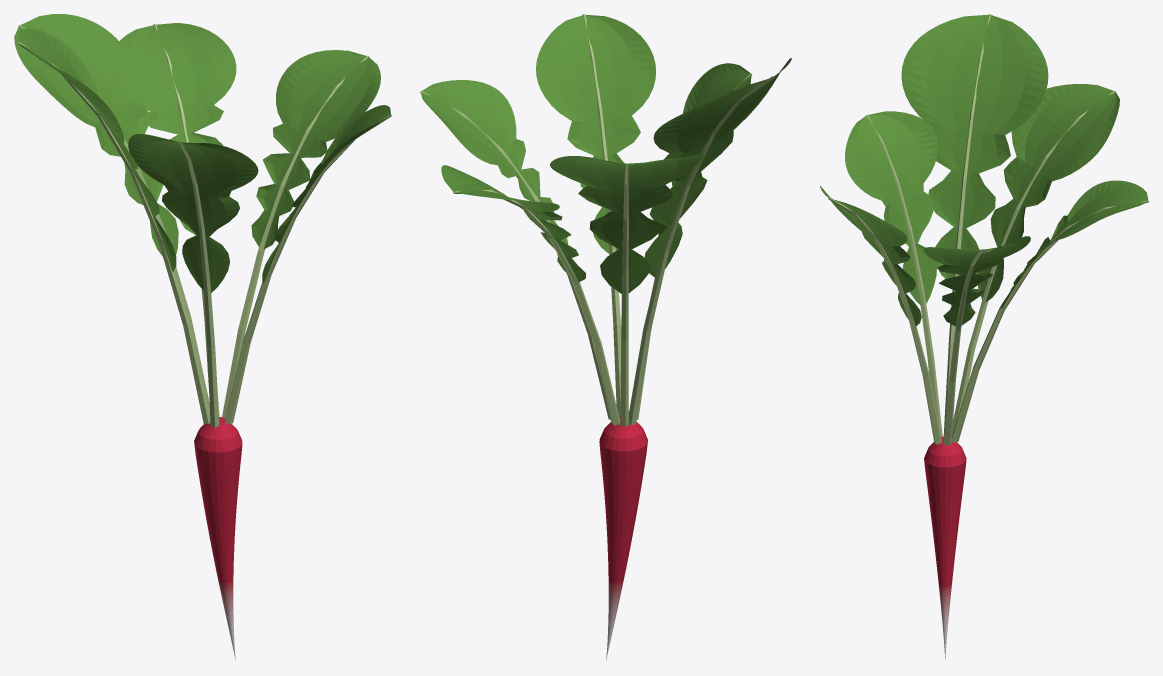
File: radish_harvest_v17.glb
The picture shows the model from 3 angles, left to right: view 1: azimuth 30°, elevation 25°; view 2: azimuth 150°, elevation 25°; view 3: azimuth 270°, elevation 25°; orthographic projection. The views are drawn at different scales.
Parts seen in each view (by area): view 1: plant; view 2: plant; view 3: plant.
Part boxes in pixels (box(x1,y1,x2,y2)): plant: box(14, 14, 391, 661); plant: box(420, 14, 791, 659); plant: box(820, 14, 1148, 658).
Size of the model in its own units: 0.3026 by 0.5337 by 0.2809.
1 material, 1 textured.
